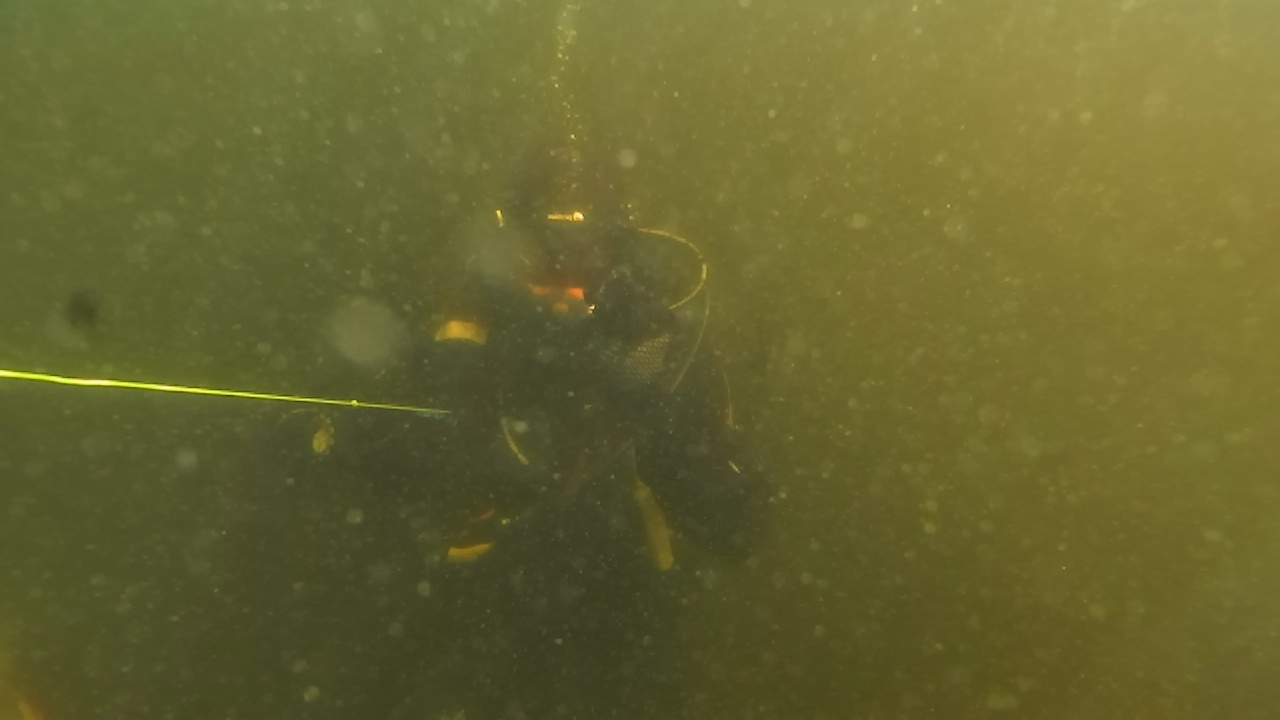Diver: (294, 140, 774, 714)
